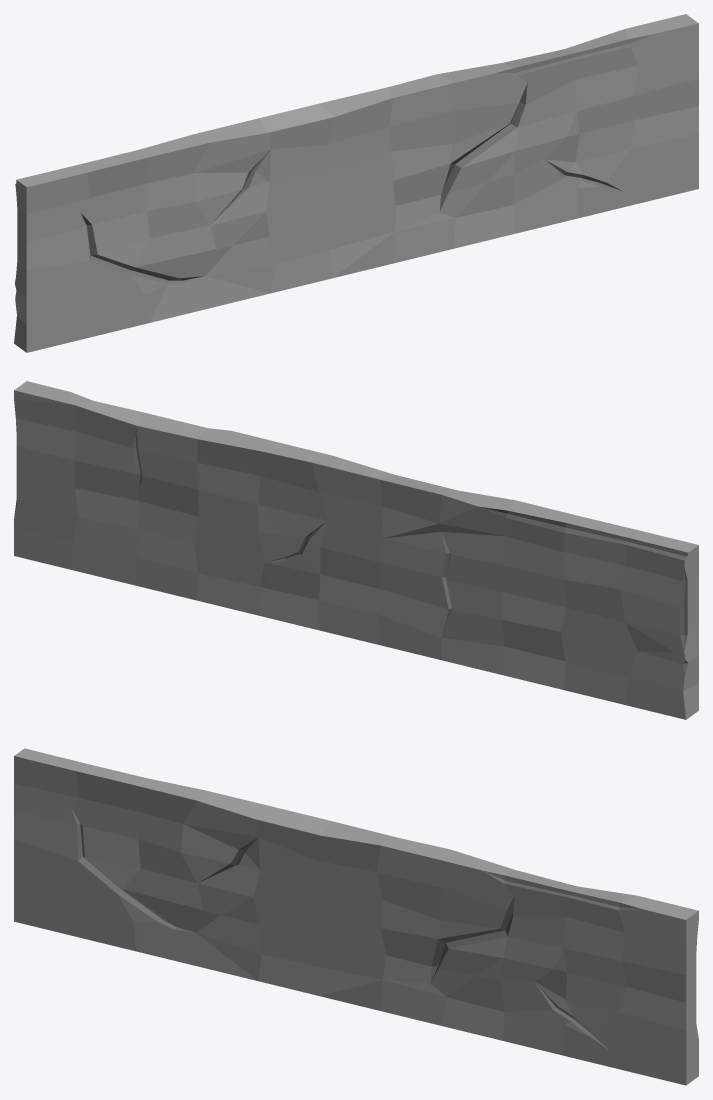
The model's file is Fixed Mesh 3.fbx.
The picture shows the model from 3 angles, top to bottom: view 1: azimuth 30°, elevation 25°; view 2: azimuth 150°, elevation 25°; view 3: azimuth 330°, elevation 25°; orthographic projection.
Parts seen in each view (by area): view 1: Cube.076; view 2: Cube.076; view 3: Cube.076.
Boxes of the visible parts, left/top/right/bottom form: Cube.076: left=14, top=14, right=698, bottom=352; Cube.076: left=14, top=381, right=698, bottom=719; Cube.076: left=14, top=748, right=698, bottom=1085.
Size of the model in its own units: 1820 by 428 by 66.06.
